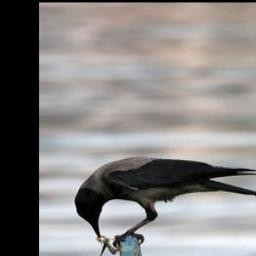Crow: (74, 154, 256, 246)
